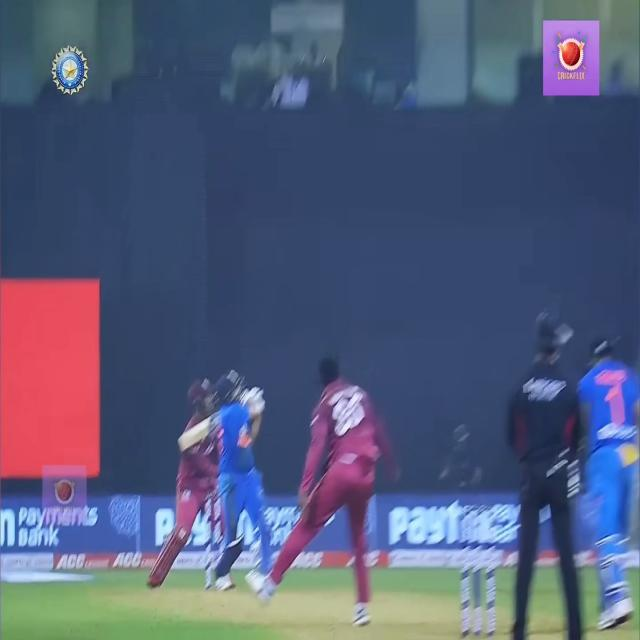partially_visible: (389, 501, 483, 565)
